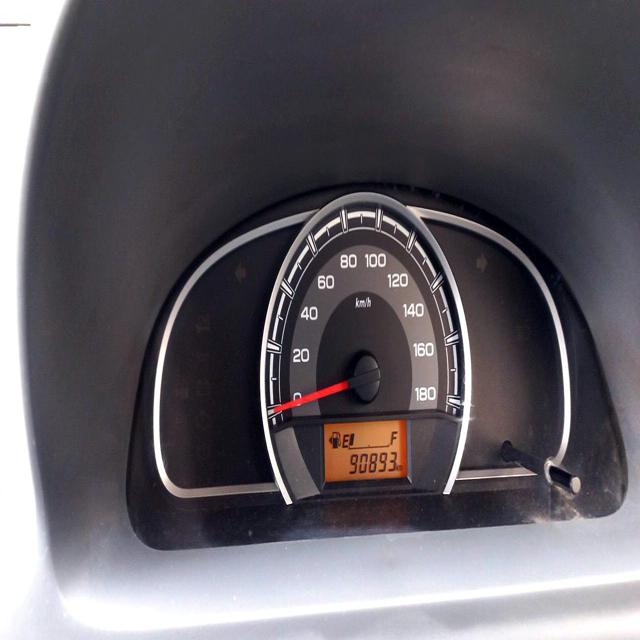odometer: (349, 449, 397, 477)
